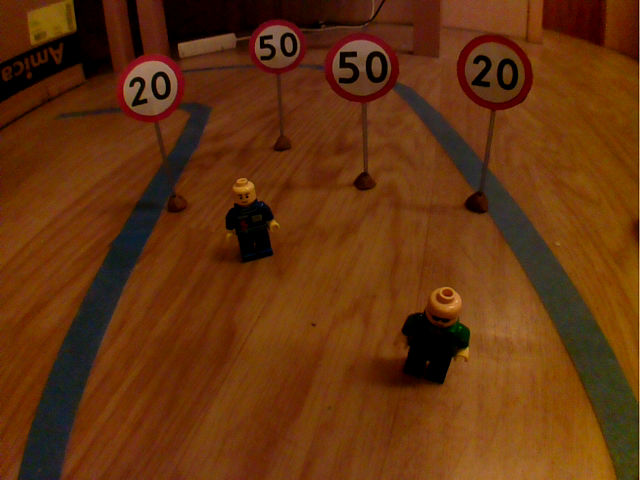Ograniczenie 20: (452, 28, 539, 116), (110, 49, 187, 130)
Ograniczenie 50: (320, 30, 404, 108), (248, 17, 310, 78)
Postac LEGO: (389, 281, 477, 392), (219, 175, 290, 268)
